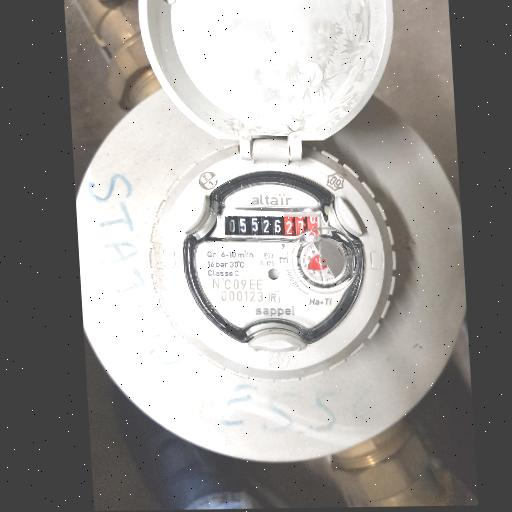0: (224, 216, 240, 235), (305, 217, 318, 232)
2: (261, 215, 274, 235), (284, 216, 296, 236)
5: (237, 215, 252, 236), (251, 216, 263, 235)
6: (272, 216, 285, 236)
7: (294, 216, 306, 236)
border_water_meter_number: (222, 208, 323, 240)
